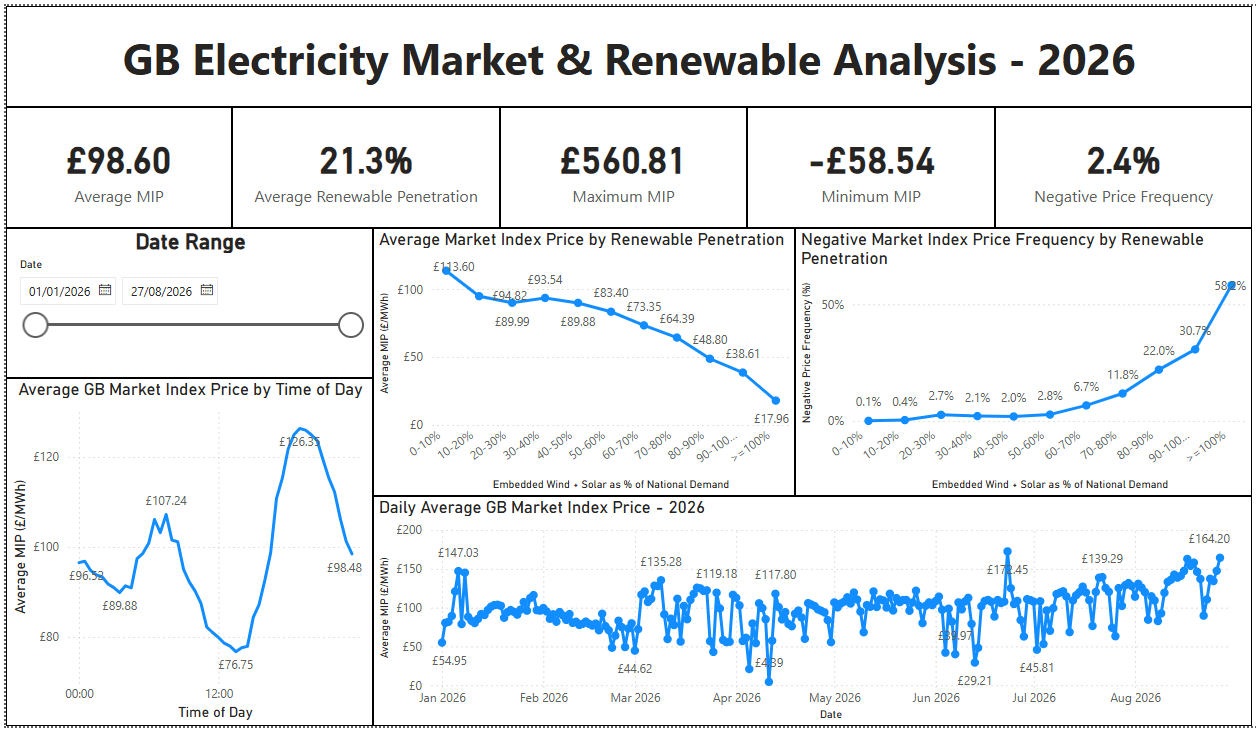

The dashboard page shown, as its layout file describes it:
{"tool":"powerbi","page":{"name":"Page 1","canvas":[1280,720],"ordinal":0},"visuals":[{"type":"card","fields":{"Values":["GB_ENERGY_MARKET_DATA.Average MIP"]},"box":[0,101,226,121],"z":0},{"type":"card","fields":{"Values":["GB_ENERGY_MARKET_DATA.Maximum MIP"]},"box":[494,101,247,121],"z":1000},{"type":"card","fields":{"Values":["GB_ENERGY_MARKET_DATA.Minimum MIP"]},"box":[741,101,248,121],"z":2000},{"type":"card","fields":{"Values":["GB_ENERGY_MARKET_DATA.Negative Price Frequency"]},"box":[989,101,257,121],"z":3000},{"type":"card","fields":{"Values":["GB_ENERGY_MARKET_DATA.Average Renewable Penetration"]},"box":[226,101,268,121],"z":4000},{"type":"lineChart","title":"Average Market Index Price by Renewable Penetration","fields":{"Category":["GB_ENERGY_MARKET_DATA.RENEWABLE_BAND"],"Y":["GB_ENERGY_MARKET_DATA.Average MIP"]},"box":[367,222,422,268],"z":5000},{"type":"lineChart","title":"Negative Market Index Price Frequency by Renewable Penetration","fields":{"Category":["GB_ENERGY_MARKET_DATA.RENEWABLE_BAND"],"Y":["GB_ENERGY_MARKET_DATA.Negative Price Frequency"]},"box":[789,222,457,268],"z":6000},{"type":"lineChart","title":"Daily Average GB Market Index Price - 2026","fields":{"Y":["GB_ENERGY_MARKET_DATA.Average MIP"],"Category":["GB_ENERGY_MARKET_DATA.Date"]},"box":[367,490,879,230],"z":7000},{"type":"textbox","box":[0,0,1246,101],"z":9000},{"type":"slicer","title":"Date Range","fields":{"Values":["GB_ENERGY_MARKET_DATA.Date"]},"box":[0,222,367,150],"z":9001},{"type":"lineChart","title":"Average GB Market Index Price by Time of Day","fields":{"Category":["GB_ENERGY_MARKET_DATA.TIME"],"Y":["GB_ENERGY_MARKET_DATA.Average MIP"]},"box":[0,372,367,348],"z":9002}]}

Visuals, with their boxes in screenshot pixels (x1, y1, x2, y2):
card - GB_ENERGY_MARKET_DATA.Average MIP: select_region(0, 101, 227, 223)
card - GB_ENERGY_MARKET_DATA.Maximum MIP: select_region(496, 101, 743, 223)
card - GB_ENERGY_MARKET_DATA.Minimum MIP: select_region(743, 101, 992, 223)
card - GB_ENERGY_MARKET_DATA.Negative Price Frequency: select_region(992, 101, 1250, 223)
card - GB_ENERGY_MARKET_DATA.Average Renewable Penetration: select_region(227, 101, 496, 223)
"Average Market Index Price by Renewable Penetration" lineChart: select_region(368, 223, 792, 492)
"Negative Market Index Price Frequency by Renewable Penetration" lineChart: select_region(792, 223, 1250, 492)
"Daily Average GB Market Index Price - 2026" lineChart: select_region(368, 492, 1250, 722)
textbox: select_region(0, 0, 1250, 101)
"Date Range" slicer: select_region(0, 223, 368, 373)
"Average GB Market Index Price by Time of Day" lineChart: select_region(0, 373, 368, 722)
